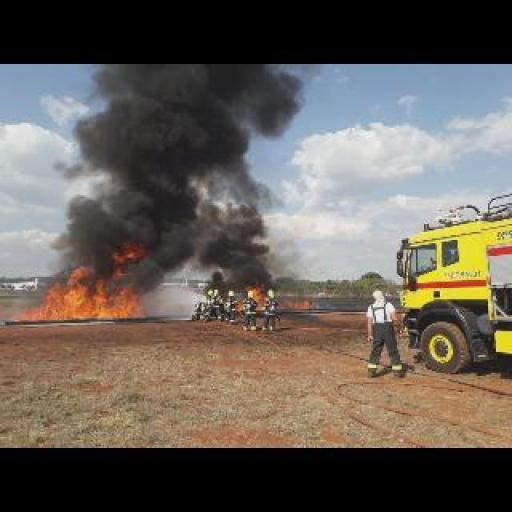smoke: (51, 64, 314, 280), (12, 269, 142, 320), (109, 242, 144, 262), (248, 283, 264, 307), (284, 296, 310, 309)
